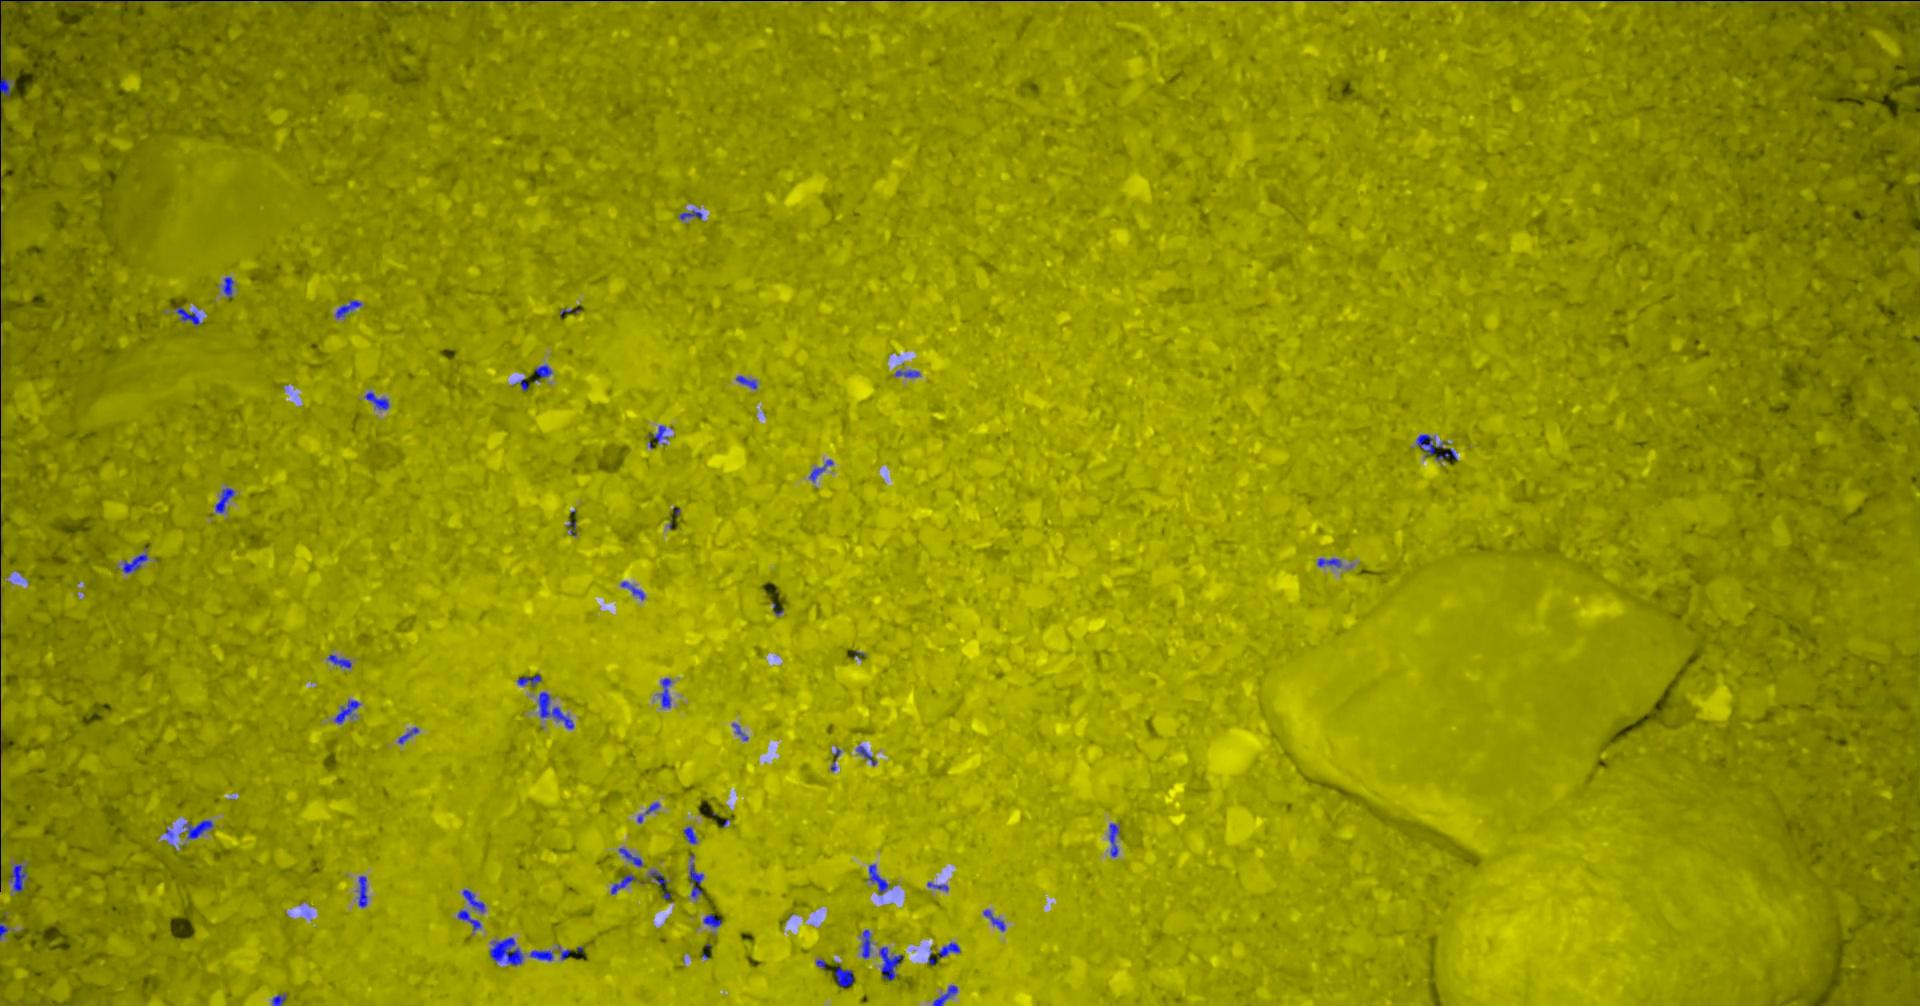ant: (538, 692, 575, 728), (491, 937, 524, 965), (880, 946, 904, 981), (1417, 434, 1450, 455), (184, 819, 215, 840), (869, 862, 889, 892), (651, 870, 672, 899), (810, 459, 834, 481), (337, 700, 361, 723), (612, 873, 637, 894), (463, 889, 486, 912), (216, 486, 236, 512), (458, 909, 483, 930), (935, 984, 959, 1005), (691, 862, 705, 897), (337, 300, 363, 318), (177, 306, 201, 325), (622, 580, 646, 600), (366, 391, 391, 409), (123, 554, 149, 572), (650, 426, 669, 448), (620, 848, 644, 866), (11, 864, 27, 892), (985, 909, 1006, 930), (1, 69, 11, 105), (858, 746, 877, 765), (836, 967, 855, 986), (399, 727, 420, 743), (662, 677, 673, 708), (1110, 823, 1120, 856), (518, 674, 543, 687), (359, 875, 370, 907), (330, 654, 353, 668), (940, 942, 961, 956), (737, 375, 758, 387), (863, 929, 872, 958), (684, 826, 698, 843), (705, 913, 723, 927), (225, 276, 235, 298), (531, 950, 554, 960), (1318, 558, 1343, 567), (536, 365, 552, 377), (681, 210, 703, 218), (897, 370, 921, 377), (273, 995, 288, 1005), (56, 0, 137, 1)
